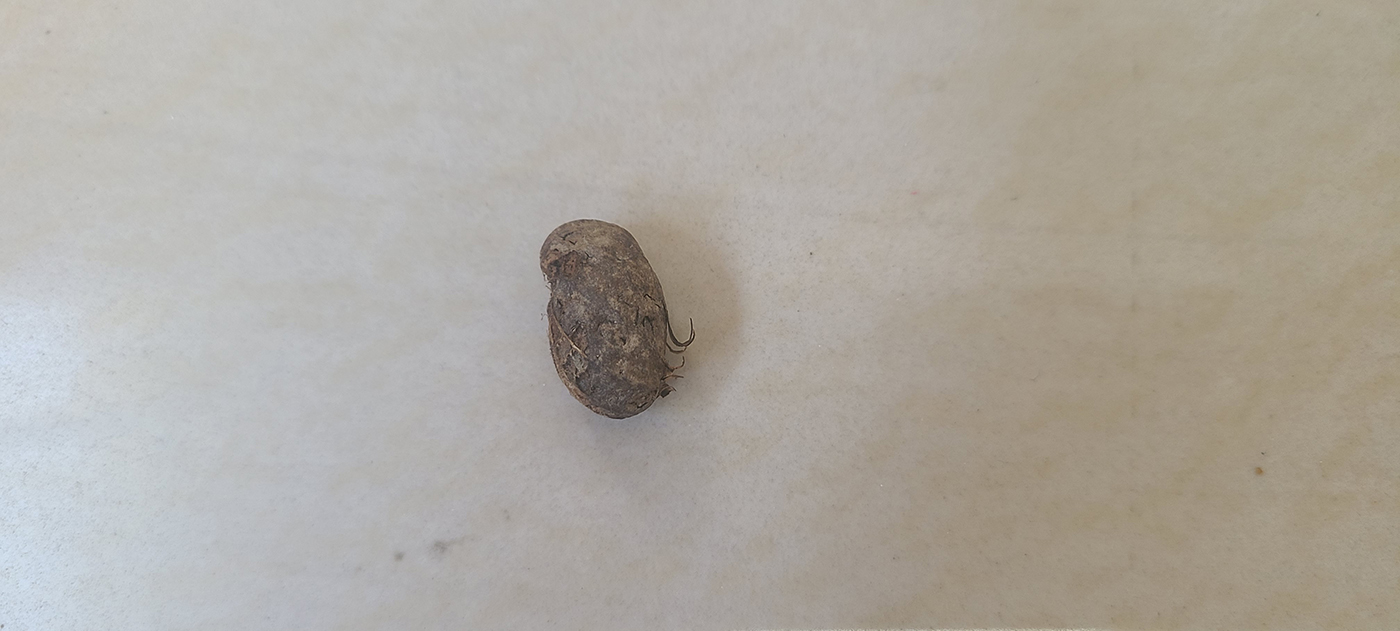l: (539, 215, 679, 419)
